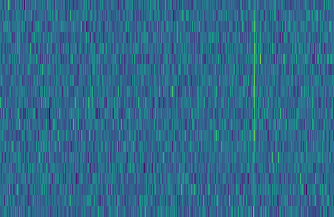signal: (250, 0, 260, 217)
